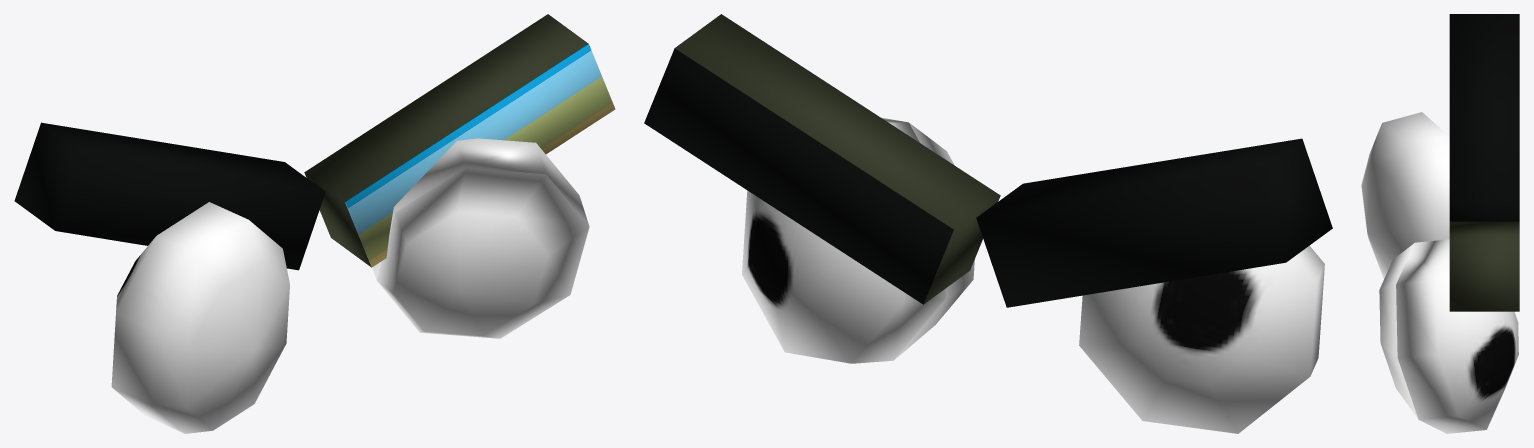
File: AngryEyes.glb
The picture shows the model from 3 angles, left to right: view 1: azimuth 30°, elevation 25°; view 2: azimuth 150°, elevation 25°; view 3: azimuth 270°, elevation 25°; orthographic projection. The views are drawn at different scales.
Visible parts, largest first — view 1: angry eyes; view 2: angry eyes; view 3: angry eyes.
Boxes of the visible parts, x1=… form: angry eyes: x1=14, y1=14, x2=615, y2=433; angry eyes: x1=644, y1=14, x2=1332, y2=433; angry eyes: x1=1361, y1=14, x2=1519, y2=433.
Bounding box in the file's own units: 4.29 × 2.1 × 1.22.
2 materials, 2 textured.
